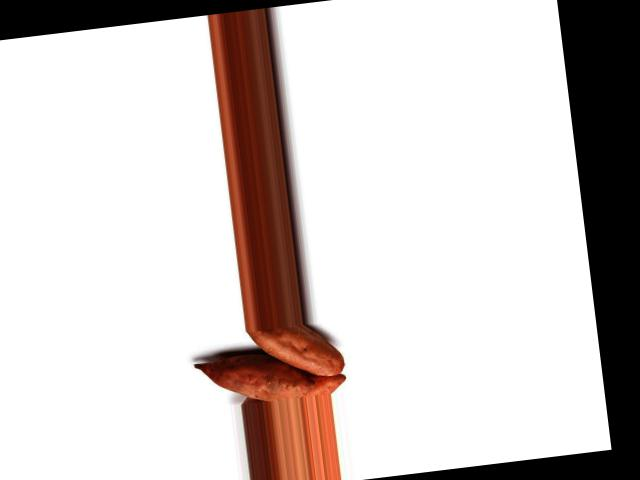sweet_potato: (240, 319, 345, 384)
